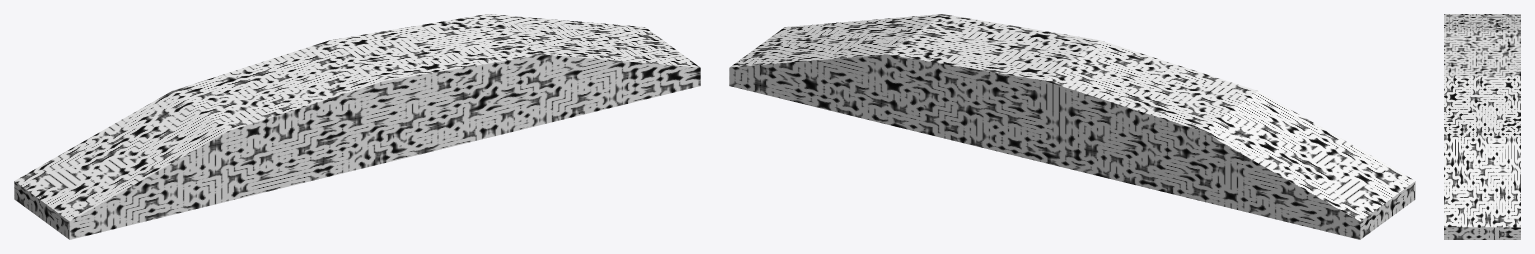
Rendered from obstacle1.obj.
3 renders of one model, left to right at view 1: azimuth 30°, elevation 25°; view 2: azimuth 150°, elevation 25°; view 3: azimuth 270°, elevation 25°, orthographic. The views are drawn at different scales.
Visible parts, largest first — view 1: Cube; view 2: Cube; view 3: Cube.
Part boxes in pixels (box(x1,y1,x2,y2)): Cube: box(14, 14, 700, 239); Cube: box(729, 14, 1415, 239); Cube: box(1444, 14, 1520, 239).
Size of the model in its own units: 13.14 by 1.63 by 2.
